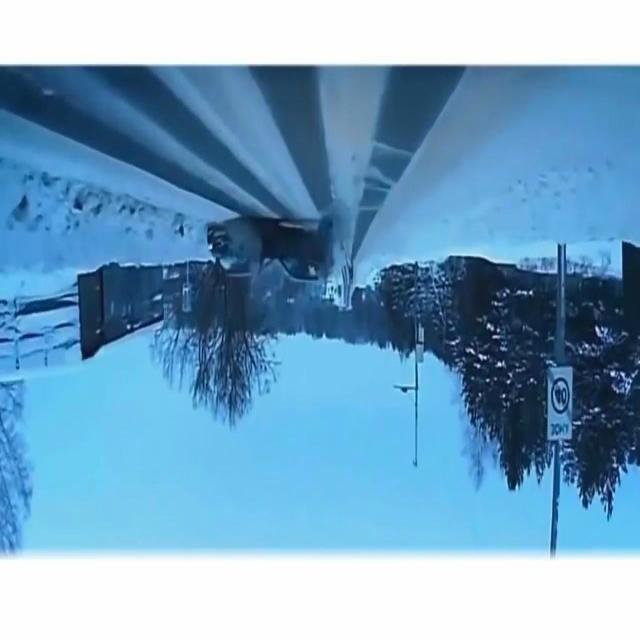vehicle: (192, 202, 350, 310)
